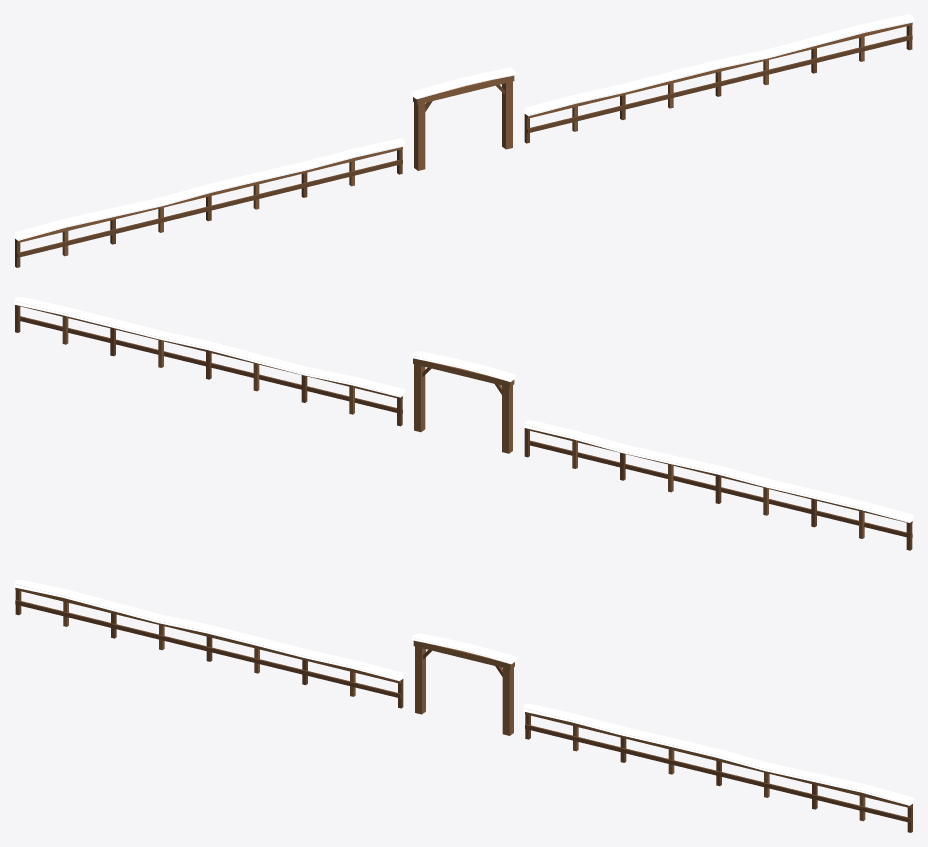
Rendered from snow-fence.glb.
The picture shows the model from 3 angles, top to bottom: view 1: azimuth 30°, elevation 25°; view 2: azimuth 150°, elevation 25°; view 3: azimuth 330°, elevation 25°; orthographic projection.
Visible parts, largest first — view 1: snow-fence; view 2: snow-fence; view 3: snow-fence.
Boxes of the visible parts, x1,y1,x2,y2 form: snow-fence: (14,14,913,267); snow-fence: (14,296,913,550); snow-fence: (14,579,913,832).
Bounding box in the file's own units: 70.31 × 5.84 × 0.79.
